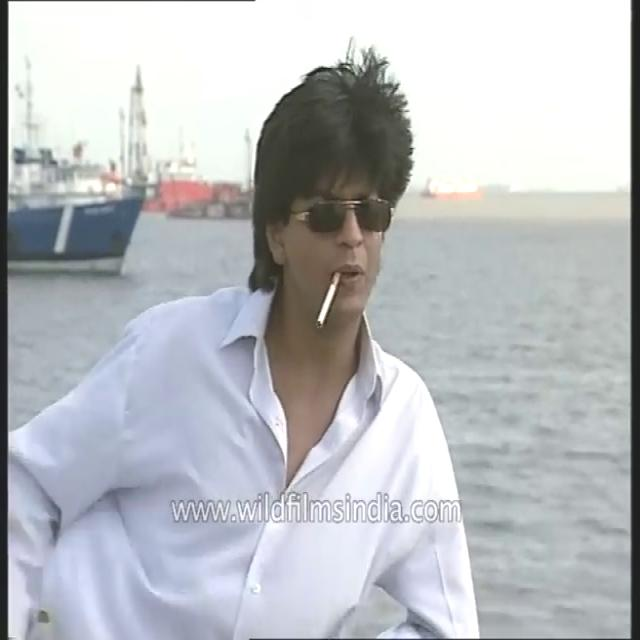Smooking: (312, 251, 350, 336)
